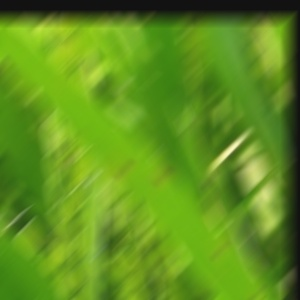Bacterial_Leaf_Blight: (114, 159, 134, 178), (152, 167, 170, 183), (211, 243, 228, 257), (248, 286, 265, 300), (203, 172, 215, 186)
